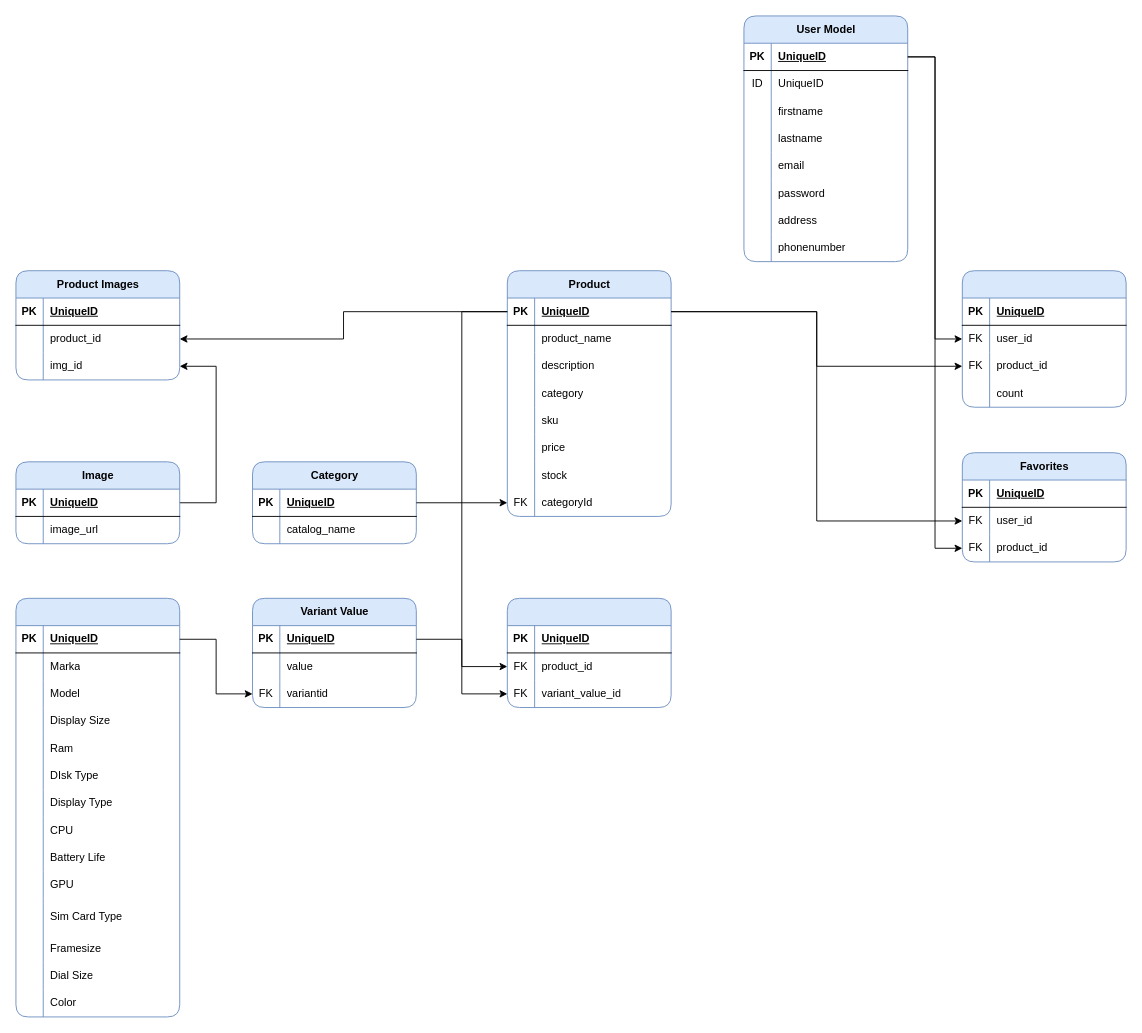
The diagram is 1142 pixels wide and 1033 high, and some of its shapes have lost their labels. The shapes that lost their labels are listed below. From the top down, each one's box as (x1, y1, x2, y2) in pixels, then its label:
(961, 270, 1126, 407): Card
(506, 597, 671, 708): Product Variants
(15, 597, 180, 1017): Variants
